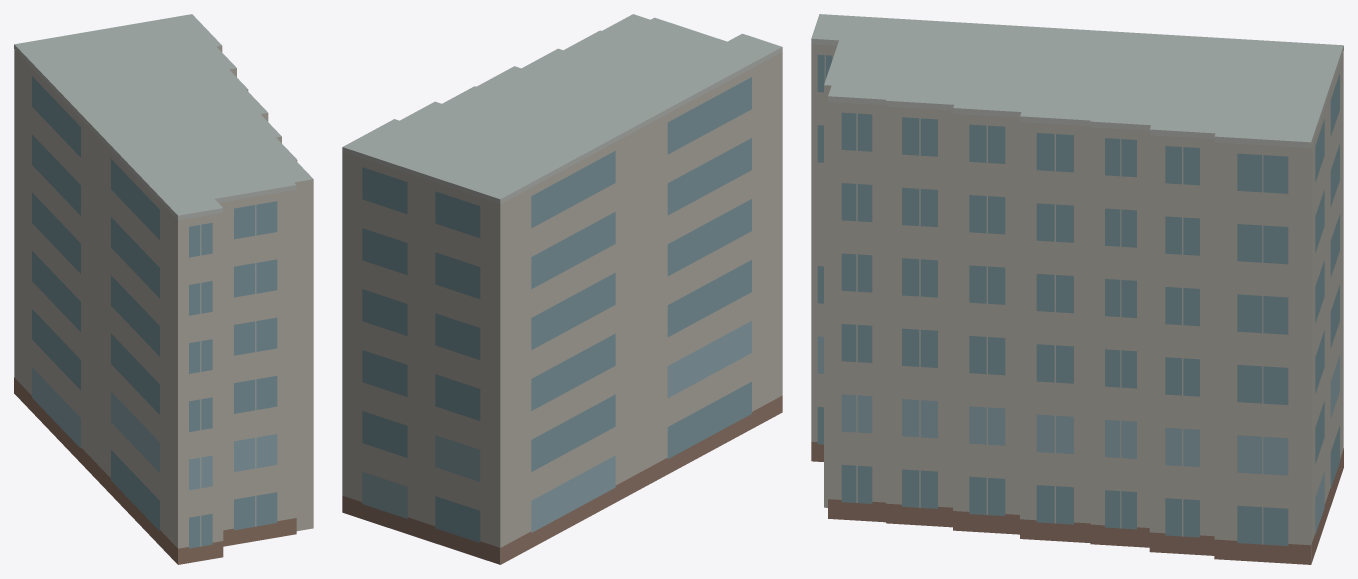
The model's file is survey-upis-32663473.glb.
The picture shows the model from 3 angles, left to right: view 1: azimuth 30°, elevation 25°; view 2: azimuth 150°, elevation 25°; view 3: azimuth 270°, elevation 25°; orthographic projection. The views are drawn at different scales.
Parts seen in each view (by area): view 1: survey-upis-32663473.tmp; view 2: survey-upis-32663473.tmp; view 3: survey-upis-32663473.tmp.
Part boxes in pixels (x1,y1,x2,y2): survey-upis-32663473.tmp: (14,14,313,564); survey-upis-32663473.tmp: (342,14,782,564); survey-upis-32663473.tmp: (811,14,1343,564).
Size of the model in its own units: 11.93 by 18.3 by 20.91.
